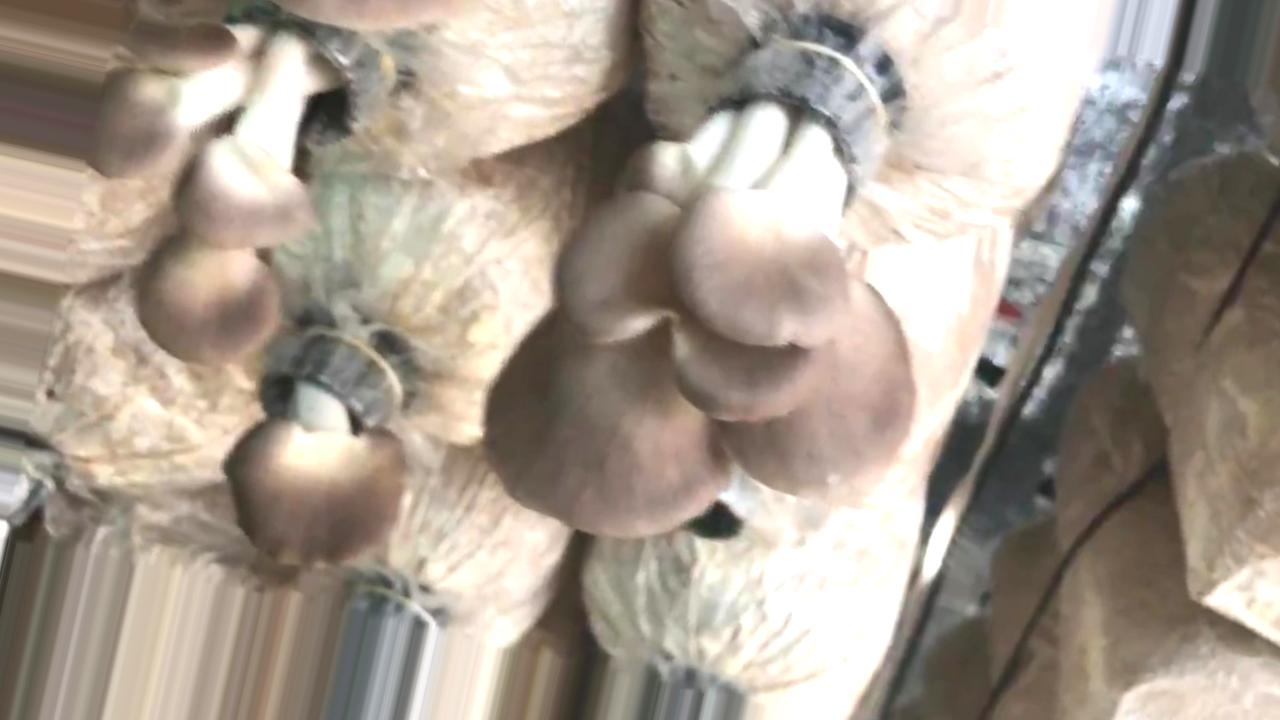nam: (484, 47, 916, 537), (92, 11, 389, 354), (230, 330, 406, 560)
